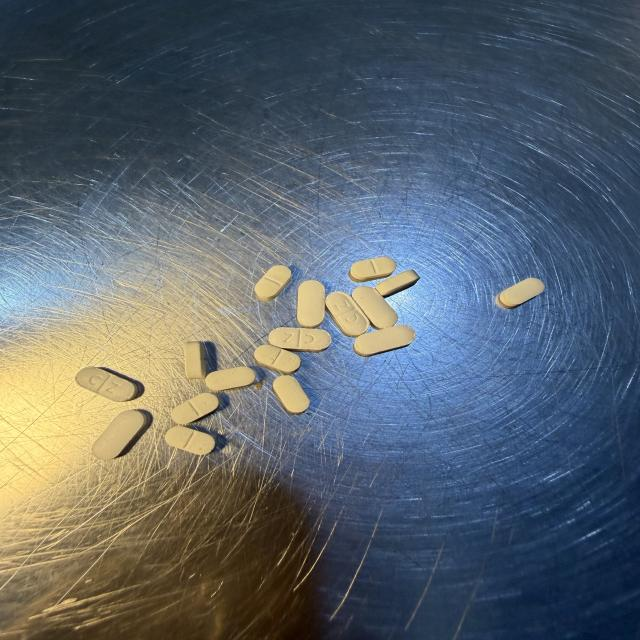pill: (93, 410, 150, 459), (75, 367, 139, 401), (326, 292, 369, 337), (354, 325, 415, 356), (352, 287, 398, 328), (269, 328, 331, 352), (171, 393, 218, 424), (498, 278, 544, 308), (165, 427, 216, 454), (273, 376, 309, 414), (254, 345, 300, 374), (297, 280, 324, 328), (206, 367, 255, 392), (255, 266, 291, 300), (349, 257, 396, 282), (376, 270, 419, 297), (185, 342, 206, 379)
